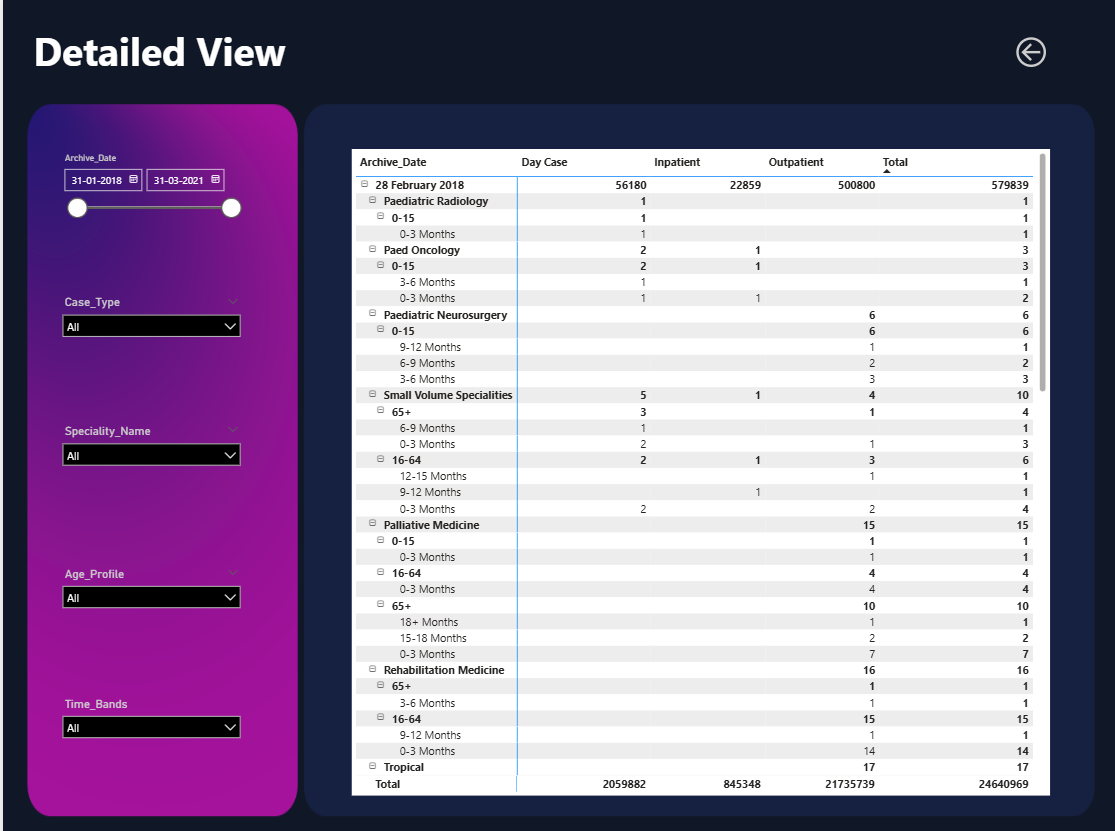

The page's visual inventory and layout, read from the dashboard file:
{"tool":"powerbi","page":{"name":"Detail","canvas":[1380,1056],"ordinal":1},"visuals":[{"type":"slicer","fields":{"Values":["All_Data.Archive_Date"]},"box":[64,192,240,96],"z":0},{"type":"slicer","fields":{"Values":["All_Data.Case_Type"]},"box":[64,368,240,96],"z":1000},{"type":"slicer","fields":{"Values":["All_Data.Speciality_Name"]},"box":[64,528,240,96],"z":2000},{"type":"textbox","box":[32,32,336,80],"z":3000},{"type":"slicer","fields":{"Values":["All_Data.Age_Profile"]},"box":[64,704,240,96],"z":4000},{"type":"pivotTable","fields":{"Rows":["All_Data.Archive_Date","All_Data.Speciality_Name","All_Data.Age_Profile","All_Data.Time_Bands"],"Columns":["All_Data.Case_Type"],"Values":["Sum(All_Data.Total)"]},"box":[432,192,864,800],"z":5000},{"type":"slicer","fields":{"Values":["All_Data.Time_Bands"]},"box":[64,864,240,96],"z":6000},{"type":"actionButton","box":[1248,48,48,48],"z":7000}]}

Visuals, with their boxes in screenshot pixels (x1, y1, x2, y2), scaled from the page's 1380x1056 canvas onto the 1115x831 screenshot:
slicer - All_Data.Archive_Date: (x1=52, y1=151, x2=246, y2=227)
slicer - All_Data.Case_Type: (x1=52, y1=290, x2=246, y2=365)
slicer - All_Data.Speciality_Name: (x1=52, y1=416, x2=246, y2=491)
textbox: (x1=26, y1=25, x2=297, y2=88)
slicer - All_Data.Age_Profile: (x1=52, y1=554, x2=246, y2=630)
pivotTable - All_Data.Archive_Date x All_Data.Speciality_Name: (x1=349, y1=151, x2=1047, y2=781)
slicer - All_Data.Time_Bands: (x1=52, y1=680, x2=246, y2=755)
actionButton: (x1=1008, y1=38, x2=1047, y2=76)
